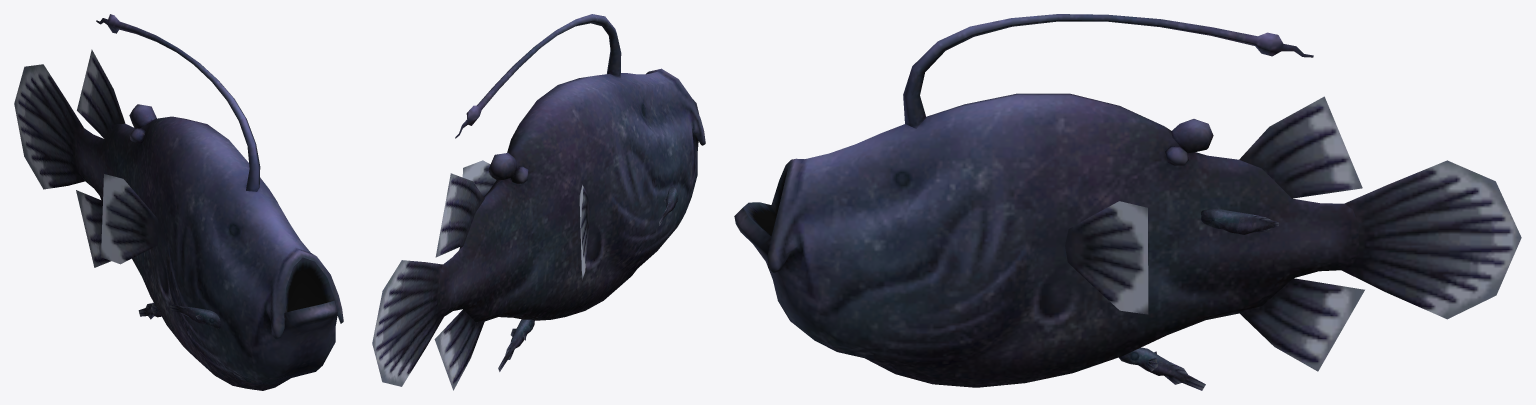
Rendered from FishChouchinankou.glb.
The picture shows the model from 3 angles, left to right: view 1: azimuth 30°, elevation 25°; view 2: azimuth 150°, elevation 25°; view 3: azimuth 270°, elevation 25°; orthographic projection. The views are drawn at different scales.
Parts seen in each view (by area): view 1: FishChouchinankou__mChouchinankou; view 2: FishChouchinankou__mChouchinankou; view 3: FishChouchinankou__mChouchinankou.
Boxes of the visible parts, box(x1,y1,x2,y2) form: FishChouchinankou__mChouchinankou: box(14, 14, 343, 390); FishChouchinankou__mChouchinankou: box(372, 14, 705, 390); FishChouchinankou__mChouchinankou: box(734, 14, 1521, 390).
Bounding box in the file's own units: 2.32 × 5.29 × 10.02.
Materials: 1 (1 with a texture image).
